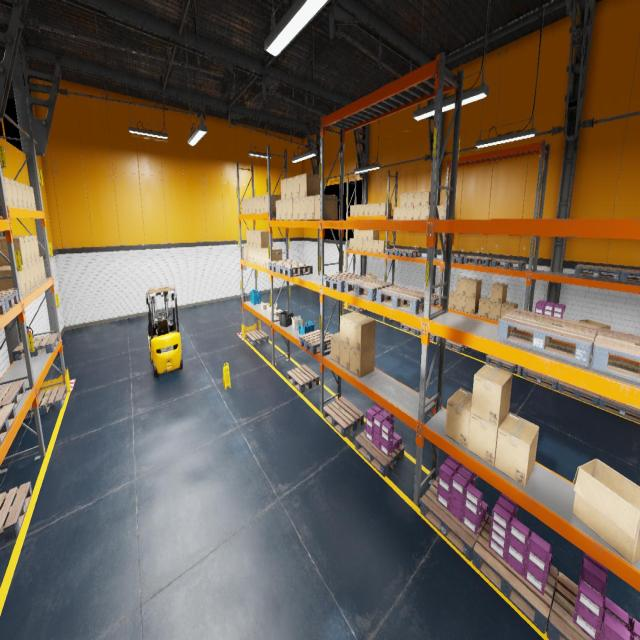box: (572, 459, 640, 564), (495, 412, 539, 487), (471, 363, 513, 428), (468, 412, 508, 467), (445, 388, 472, 448), (350, 316, 375, 352), (1, 236, 36, 261), (0, 236, 32, 262), (349, 346, 375, 378), (0, 237, 28, 266), (340, 311, 363, 346), (0, 265, 27, 294), (12, 235, 40, 259), (0, 268, 22, 295), (315, 194, 337, 220), (579, 319, 611, 336), (299, 173, 320, 197), (300, 197, 318, 220), (490, 283, 508, 303), (264, 194, 281, 213), (4, 176, 14, 208), (330, 332, 340, 364), (261, 247, 277, 266), (489, 302, 505, 321), (466, 279, 482, 298), (456, 277, 472, 296), (266, 248, 282, 266), (500, 302, 518, 318), (256, 231, 272, 248), (465, 296, 480, 314), (293, 198, 305, 220), (10, 179, 19, 208), (340, 341, 349, 370), (15, 180, 24, 208), (478, 297, 490, 318), (0, 177, 8, 206), (24, 263, 32, 291), (253, 231, 266, 247), (28, 261, 35, 288), (21, 183, 28, 209), (32, 260, 39, 285), (249, 230, 259, 247), (29, 186, 36, 210), (36, 258, 43, 282), (436, 204, 448, 218), (246, 230, 257, 245), (307, 196, 314, 219), (456, 295, 466, 311), (378, 240, 390, 253), (286, 177, 293, 199), (448, 290, 456, 309), (26, 185, 32, 210), (40, 256, 46, 280), (421, 190, 430, 206), (293, 175, 299, 198), (287, 198, 293, 220), (380, 203, 391, 215), (281, 200, 287, 220), (373, 240, 383, 252), (281, 178, 286, 200), (368, 230, 379, 240), (413, 206, 421, 219), (276, 200, 281, 220), (414, 192, 421, 206), (400, 193, 407, 207), (428, 206, 436, 218), (421, 206, 428, 219), (407, 193, 414, 206), (260, 195, 265, 213), (406, 207, 413, 219), (399, 207, 406, 219), (393, 207, 400, 219), (374, 203, 380, 215), (256, 196, 260, 213), (362, 240, 368, 251), (369, 203, 374, 216), (252, 197, 256, 213), (245, 198, 249, 214), (258, 248, 262, 264), (250, 246, 254, 262), (349, 238, 354, 250), (364, 204, 369, 216), (359, 204, 364, 216), (268, 308, 276, 315), (358, 239, 363, 250), (366, 274, 376, 279), (274, 310, 282, 316), (269, 303, 277, 309), (261, 303, 269, 309), (249, 198, 252, 214), (242, 198, 245, 214), (254, 247, 257, 263), (247, 245, 250, 261), (244, 244, 247, 260), (368, 240, 372, 252), (355, 204, 359, 216), (363, 230, 368, 239), (358, 230, 363, 239), (350, 205, 354, 216), (354, 239, 358, 249), (354, 230, 358, 239), (267, 304, 274, 309)
forklift: (146, 287, 182, 378)
pallets: (472, 516, 558, 634), (497, 308, 598, 366), (420, 477, 489, 561), (547, 572, 600, 639), (590, 327, 640, 383), (355, 429, 404, 476), (0, 481, 32, 542), (323, 397, 364, 438), (24, 385, 67, 420), (12, 332, 60, 360), (377, 286, 424, 314), (345, 277, 394, 301), (598, 395, 640, 423), (557, 380, 600, 406), (287, 364, 319, 392), (323, 272, 366, 292), (522, 367, 559, 390), (299, 330, 332, 354), (574, 264, 622, 280), (0, 402, 16, 446), (0, 380, 25, 408), (486, 354, 517, 374), (278, 262, 313, 276), (0, 289, 19, 311), (492, 258, 526, 270), (268, 260, 299, 272), (246, 330, 268, 346), (464, 255, 496, 266), (620, 268, 640, 284), (446, 339, 468, 353), (416, 329, 436, 341), (400, 323, 418, 334), (451, 254, 471, 263), (398, 250, 422, 257), (386, 248, 406, 256), (348, 304, 366, 312), (431, 294, 442, 306), (0, 298, 6, 317), (394, 285, 408, 289), (408, 289, 424, 292)
